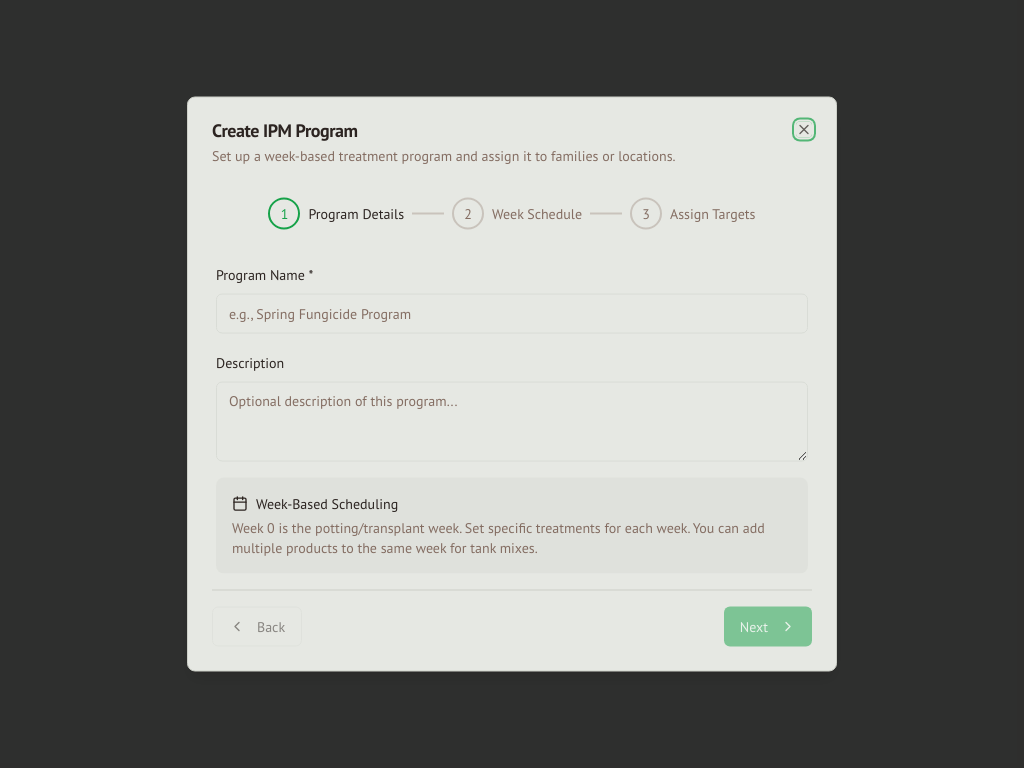
Test: ProgramWizard › Step Navigation › should enable Next button when program name is filled
Type "Test Program" into the field labelled "Program Name *" at (512, 314), box [216,294,808,334]
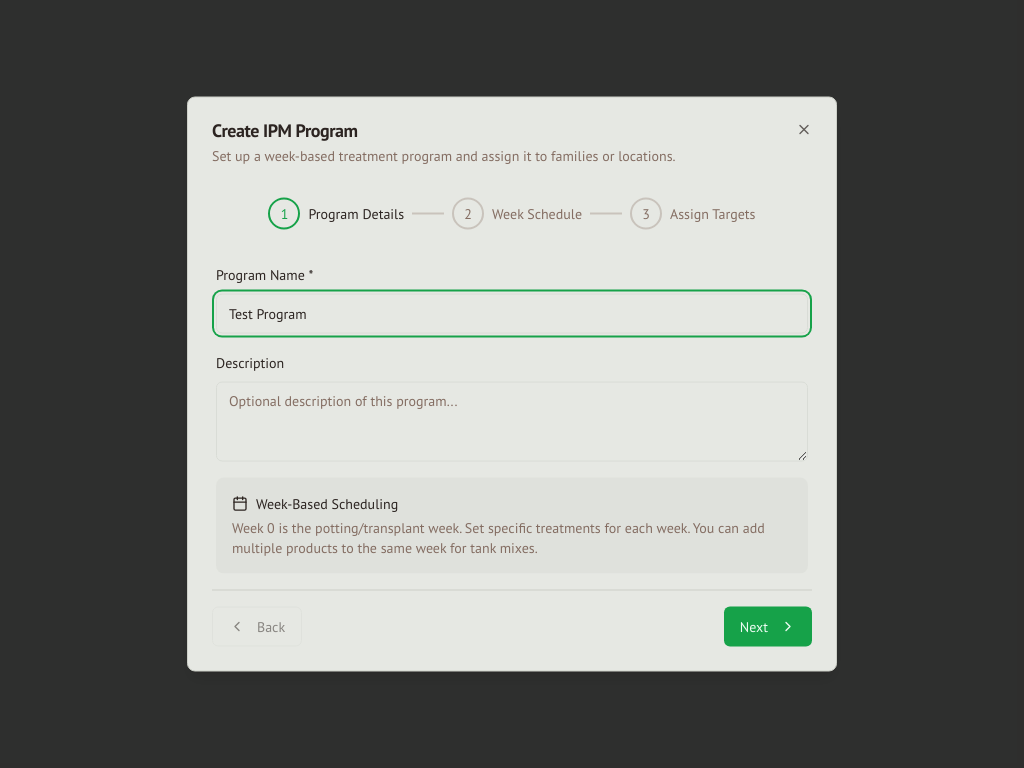
Expected: the button "Next" is enabled, [724,606,812,646]
